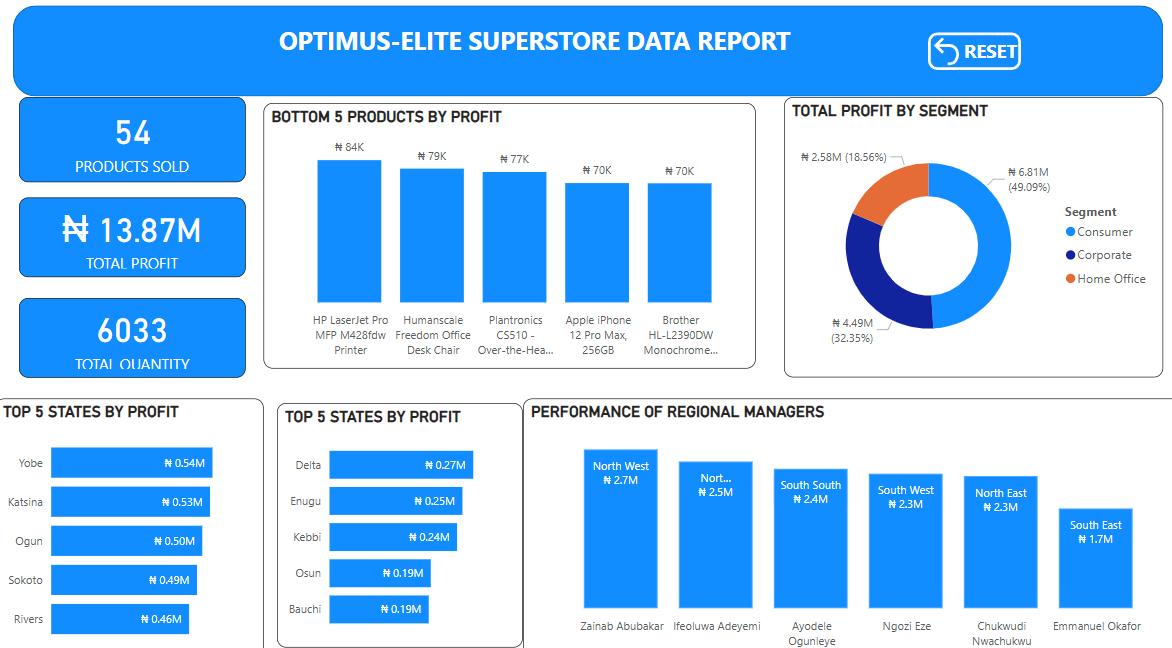

The dashboard page shown, as its layout file describes it:
{"tool":"powerbi","page":{"name":"DATA REPORT","canvas":[1280,720],"ordinal":0},"visuals":[{"type":"shape","box":[18.9,15.1,1241.6,98.3],"z":0},{"type":"textbox","box":[300.5,28.3,608.5,71.8],"z":1000},{"type":"card","fields":{"Values":["Product2.Product ID"]},"box":[25.9,113.3,244.5,92.3],"z":2000},{"type":"card","fields":{"Values":["Orders1.TOTAL PROFIT"]},"box":[25.9,221.8,244.5,85.8],"z":3000},{"type":"card","fields":{"Values":["Orders1.TOTAL QUANTITY"]},"box":[25.9,330.3,244.5,85.8],"z":4000},{"type":"donutChart","title":"TOTAL PROFIT BY SEGMENT","fields":{"Category":["Orders1.Segment"],"Y":["Orders1.TOTAL PROFIT"]},"box":[851.7,113.3,409.7,302.8],"z":5000},{"type":"actionButton","box":[1007.2,43.7,100.4,40.5],"z":6000},{"type":"clusteredColumnChart","title":"BOTTOM 5 PRODUCTS BY PROFIT","fields":{"Category":["Product2.Product Name"],"Y":["Orders1.PROFIT"]},"box":[289.8,119.8,531.1,286.6],"z":7000},{"type":"barChart","title":"TOP 5 STATES BY PROFIT","fields":{"Category":["Orders1.State"],"Y":["Orders1.PROFIT"]},"box":[0,438.8,289.8,281.7],"z":8000},{"type":"barChart","title":"TOP 5 STATES BY PROFIT","fields":{"Category":["Orders1.State"],"Y":["Orders1.PROFIT"]},"box":[304.4,443.7,265.6,263.9],"z":9000},{"type":"columnChart","title":"PERFORMANCE OF REGIONAL MANAGERS","fields":{"Y":["Orders1.PROFIT"],"Category":["Manager3.Person"],"Series":["Manager3.Region"]},"box":[570,438.8,710.8,281.7],"z":10000}]}

Visuals, with their boxes in screenshot pixels (x1, y1, x2, y2), scaled from the page's 1280x720 canvas onto the 1172x648 screenshot:
shape: {"x1": 17, "y1": 14, "x2": 1154, "y2": 102}
textbox: {"x1": 275, "y1": 25, "x2": 832, "y2": 90}
card - Product2.Product ID: {"x1": 24, "y1": 102, "x2": 248, "y2": 185}
card - Orders1.TOTAL PROFIT: {"x1": 24, "y1": 200, "x2": 248, "y2": 277}
card - Orders1.TOTAL QUANTITY: {"x1": 24, "y1": 297, "x2": 248, "y2": 374}
"TOTAL PROFIT BY SEGMENT" donutChart: {"x1": 780, "y1": 102, "x2": 1155, "y2": 374}
actionButton: {"x1": 922, "y1": 39, "x2": 1014, "y2": 76}
"BOTTOM 5 PRODUCTS BY PROFIT" clusteredColumnChart: {"x1": 265, "y1": 108, "x2": 752, "y2": 366}
"TOP 5 STATES BY PROFIT" barChart: {"x1": 0, "y1": 395, "x2": 265, "y2": 647}
"TOP 5 STATES BY PROFIT" barChart: {"x1": 279, "y1": 399, "x2": 522, "y2": 637}
"PERFORMANCE OF REGIONAL MANAGERS" columnChart: {"x1": 522, "y1": 395, "x2": 1171, "y2": 647}
